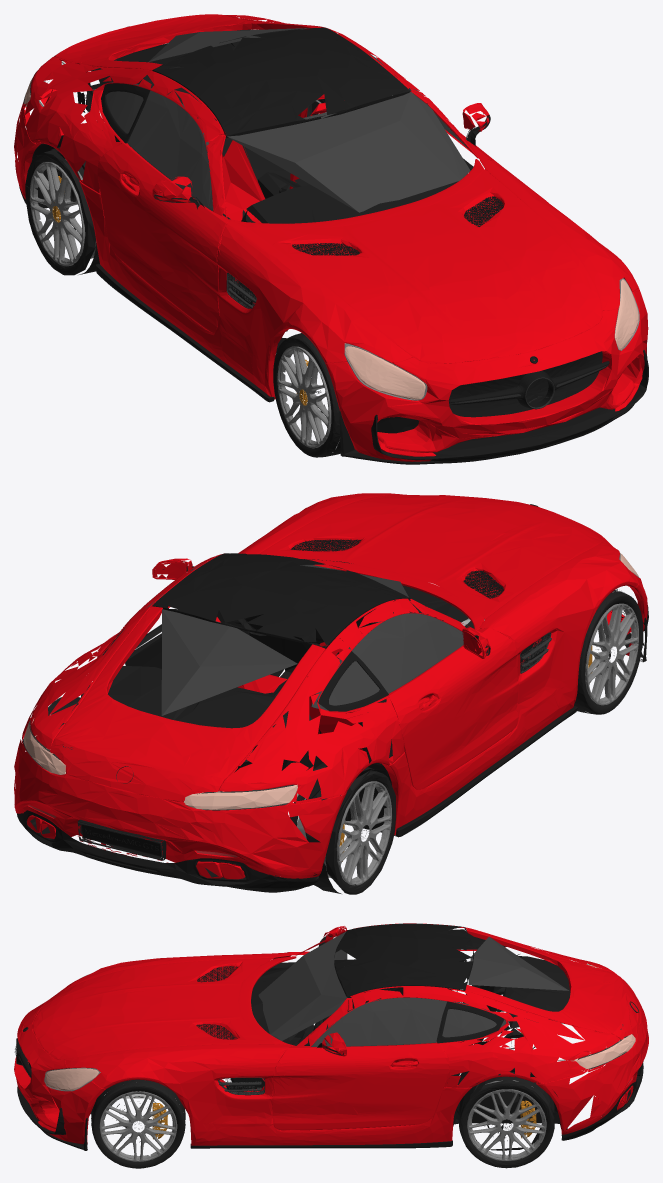
The model's file is amg-gts-red.glb.
3 renders of one model, top to bottom at view 1: azimuth 30°, elevation 25°; view 2: azimuth 150°, elevation 25°; view 3: azimuth 270°, elevation 25°, orthographic. The views are drawn at different scales.
Visible parts, largest first — view 1: Main body_9a2869, Main body_4105cd, car windows _f1d3f7, interior _6dd498, front details, back rims, right rim, Car grid details_99b597, head lights_c93de0, interior _fa19bf, back tires, right front tire (+3 smaller); view 2: Main body_9a2869, Main body_4105cd, car windows _f1d3f7, interior _6dd498, back rims, right rim, back tires, back lights_da7b6b, right front tire, Car grid details_2b7270, Car grid details_99b597, car windows _6134cb (+2 smaller); view 3: Main body_9a2869, car windows _f1d3f7, Main body_4105cd, interior _6dd498, back tires, back rims, left rim, left front tire, Car grid details_99b597, Car grid details_2b7270, car windows _6134cb, head lights_c93de0 (+2 smaller).
Boxes of the visible parts, bbox=[...] form: Main body_9a2869: bbox=[14, 14, 648, 461]; Main body_4105cd: bbox=[17, 27, 648, 464]; car windows _f1d3f7: bbox=[106, 28, 470, 212]; interior _6dd498: bbox=[86, 29, 473, 353]; front details: bbox=[377, 351, 602, 442]; back rims: bbox=[30, 162, 85, 266]; right rim: bbox=[277, 346, 331, 448]; Car grid details_99b597: bbox=[227, 196, 609, 409]; head lights_c93de0: bbox=[344, 279, 638, 399]; interior _fa19bf: bbox=[208, 94, 326, 222]; back tires: bbox=[25, 98, 325, 275]; right front tire: bbox=[273, 333, 340, 457]; Main body_9a2869: bbox=[14, 493, 647, 879]; Main body_4105cd: bbox=[17, 553, 648, 890]; car windows _f1d3f7: bbox=[102, 563, 463, 715]; interior _6dd498: bbox=[81, 585, 474, 772]; back rims: bbox=[51, 714, 391, 885]; right rim: bbox=[585, 603, 638, 705]; back tires: bbox=[48, 697, 395, 894]; back lights_da7b6b: bbox=[23, 718, 298, 809]; right front tire: bbox=[574, 590, 643, 714]; Car grid details_2b7270: bbox=[303, 559, 484, 629]; Car grid details_99b597: bbox=[290, 504, 630, 671]; car windows _6134cb: bbox=[114, 632, 388, 711]; Main body_9a2869: bbox=[14, 923, 648, 1145]; car windows _f1d3f7: bbox=[258, 929, 568, 1046]; Main body_4105cd: bbox=[17, 923, 643, 1150]; interior _6dd498: bbox=[231, 954, 570, 1088]; back tires: bbox=[458, 985, 555, 1168]; back rims: bbox=[467, 1027, 546, 1160]; left rim: bbox=[99, 1091, 177, 1161]; left front tire: bbox=[91, 1079, 185, 1168]; Car grid details_99b597: bbox=[16, 966, 264, 1094]; Car grid details_2b7270: bbox=[238, 956, 296, 1046]; car windows _6134cb: bbox=[436, 947, 504, 1043]; head lights_c93de0: bbox=[45, 1068, 98, 1090].
Bounding box in the file's own units: 1.45 × 0.9113 × 3.2.
